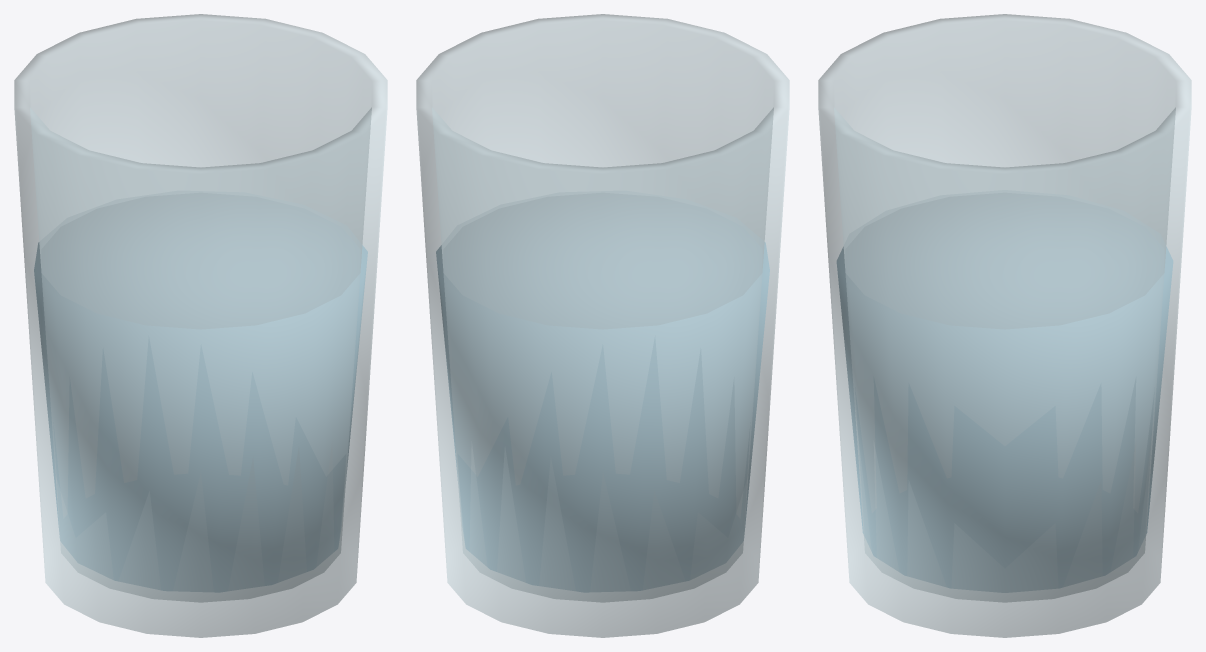
Rendered from RmGlass.fbx.
3 renders of one model, left to right at view 1: azimuth 30°, elevation 25°; view 2: azimuth 150°, elevation 25°; view 3: azimuth 270°, elevation 25°, orthographic.
Parts seen in each view (by area): view 1: RmGlassBody; view 2: RmGlassBody; view 3: RmGlassBody.
Part boxes in pixels (bbox=[...]): RmGlassBody: bbox=[14, 14, 387, 637]; RmGlassBody: bbox=[416, 14, 789, 637]; RmGlassBody: bbox=[818, 14, 1191, 637].
Bounding box in the file's own units: 0.072 × 0.1 × 0.0709.
